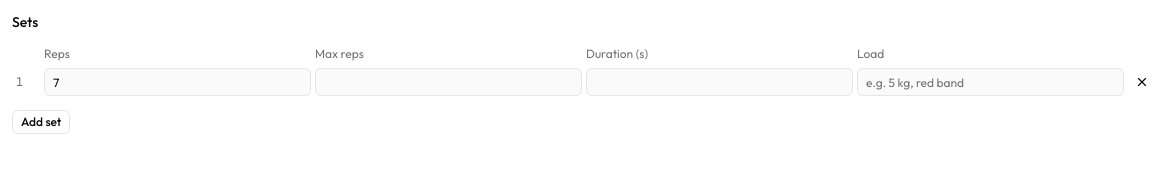
Scenario: SetsTable › shows an error for invalid text while typing
Replace the text in the field named "Set 1: Reps" with "abc" at (178, 82), box [44, 68, 311, 96]
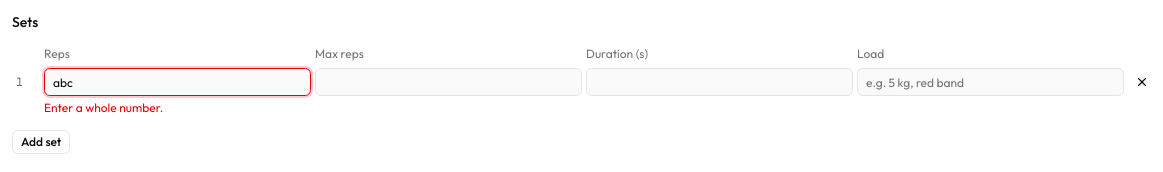
Now the text "Enter a whole number." is shown, box [44, 100, 163, 115]
